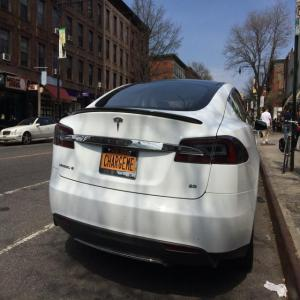Plate: (98, 146, 140, 179)
